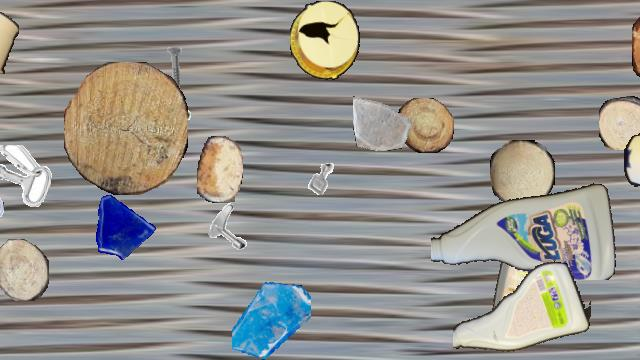glass: (232, 281, 310, 359), (86, 189, 156, 259), (353, 92, 411, 150)
metal: (139, 99, 201, 161), (0, 145, 52, 207), (202, 200, 256, 254), (151, 45, 199, 93), (300, 157, 344, 201), (0, 194, 6, 248)
plastic: (431, 176, 619, 280), (453, 257, 591, 359), (487, 217, 553, 339), (290, 1, 360, 79), (624, 118, 640, 222), (0, 1, 19, 73)
wood: (64, 62, 188, 194), (490, 140, 554, 204), (0, 239, 49, 301), (197, 136, 243, 202), (397, 98, 453, 152), (599, 96, 640, 150), (632, 1, 640, 91)
